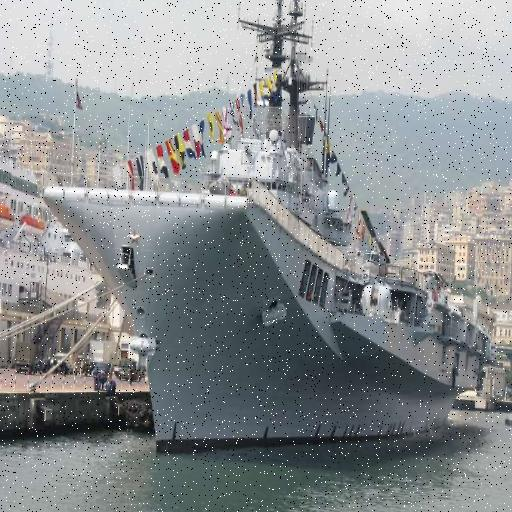Portanaves: (44, 1, 500, 462)
